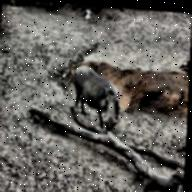boar: (67, 46, 139, 125)
